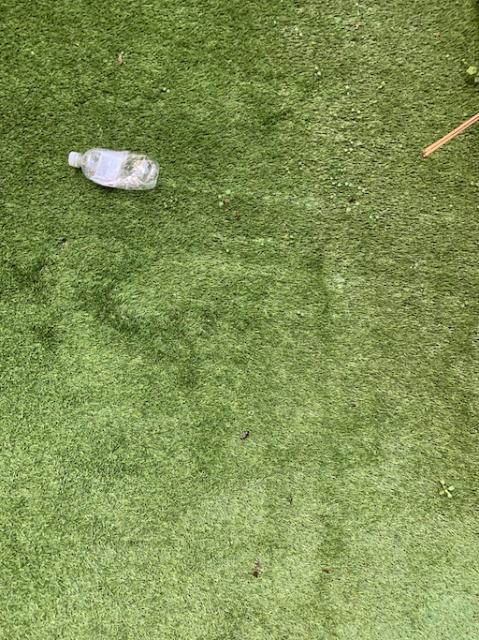plastic: (67, 147, 157, 188)
